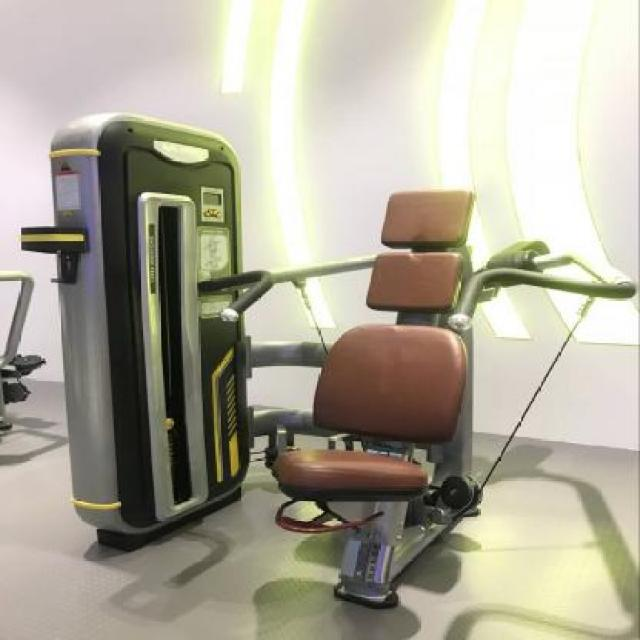shoulder press machine: (54, 115, 634, 620)
